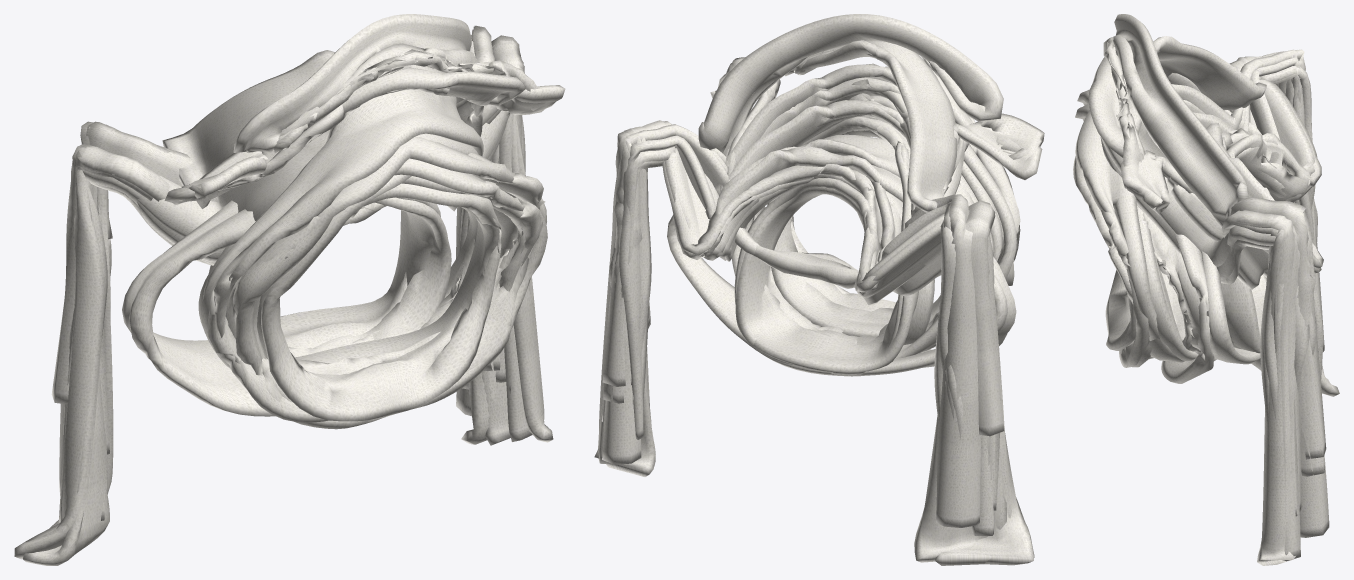
The model's file is towel_sim.glb.
3 views of the same model, side by side, from view 1: azimuth 30°, elevation 25°; view 2: azimuth 150°, elevation 25°; view 3: azimuth 270°, elevation 25° (orthographic). The views are drawn at different scales.
Visible parts, largest first — view 1: towel_patient05, towel_patient08, towel_patient06, towel_patient02, towel_patient07, towel_patient04, towel_patient09, towel_patient10, towel_patient03, towel_patient01; view 2: towel_patient08, towel_patient04, towel_patient09, towel_patient03, towel_patient07, towel_patient10, towel_patient06, towel_patient05, towel_patient01, towel_patient02; view 3: towel_patient08, towel_patient05, towel_patient07, towel_patient04, towel_patient09, towel_patient10, towel_patient06, towel_patient02, towel_patient01, towel_patient03.
Part boxes in pixels (x1,y1,x2,y2): towel_patient05: (90,26,547,454); towel_patient08: (162,14,565,225); towel_patient06: (60,26,501,520); towel_patient02: (63,25,540,445); towel_patient07: (23,54,553,565); towel_patient04: (14,35,532,559); towel_patient09: (51,37,523,416); towel_patient10: (58,34,516,522); towel_patient03: (59,29,525,495); towel_patient01: (63,32,530,456); towel_patient08: (698,14,1044,288); towel_patient04: (598,121,1033,565); towel_patient09: (609,120,1016,436); towel_patient03: (637,101,981,527); towel_patient07: (594,138,1034,565); towel_patient10: (601,134,993,535); towel_patient06: (602,100,1006,562); towel_patient05: (602,63,1020,479); towel_patient01: (632,100,999,510); towel_patient02: (603,77,1003,473); towel_patient08: (1088,14,1270,241); towel_patient05: (1075,53,1326,459); towel_patient07: (1222,66,1329,565); towel_patient04: (1221,51,1323,561); towel_patient09: (1161,51,1321,392); towel_patient10: (1143,56,1322,516); towel_patient06: (1105,50,1339,537); towel_patient02: (1073,49,1324,476); towel_patient01: (1132,52,1296,434); towel_patient03: (1090,49,1324,419).
Size of the model in its own units: 0.3263 by 0.3162 by 0.1723.
Materials: 1 (1 with a texture image).
